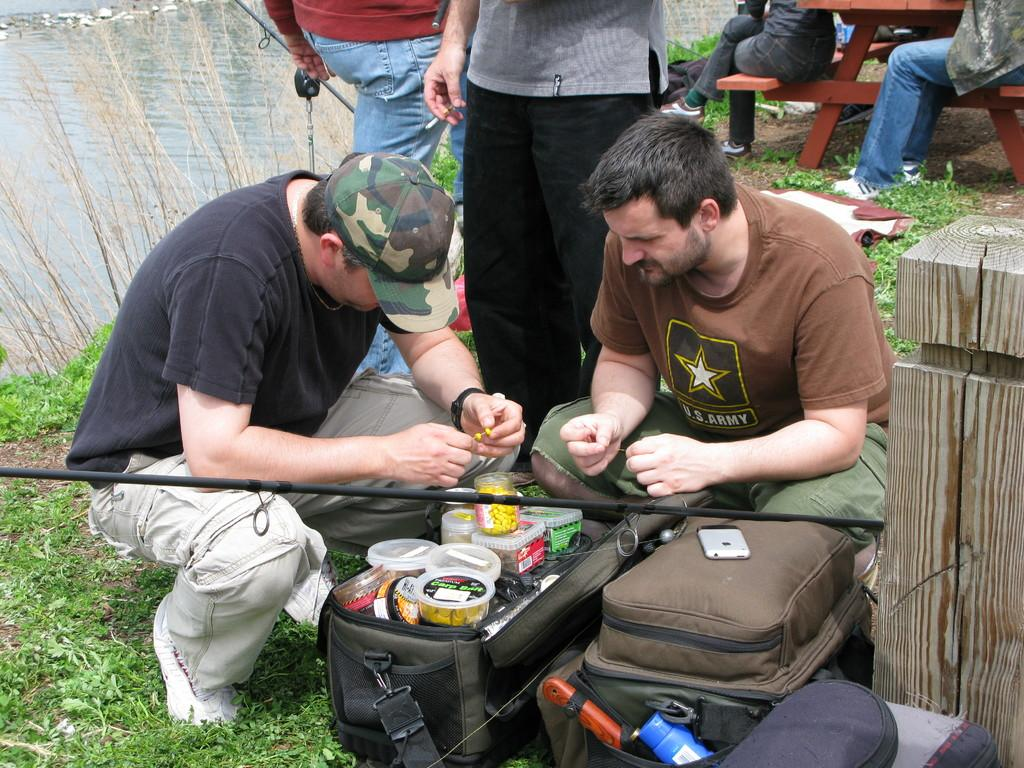Luggage-and-bags: (317, 490, 700, 767), (573, 508, 876, 740)
